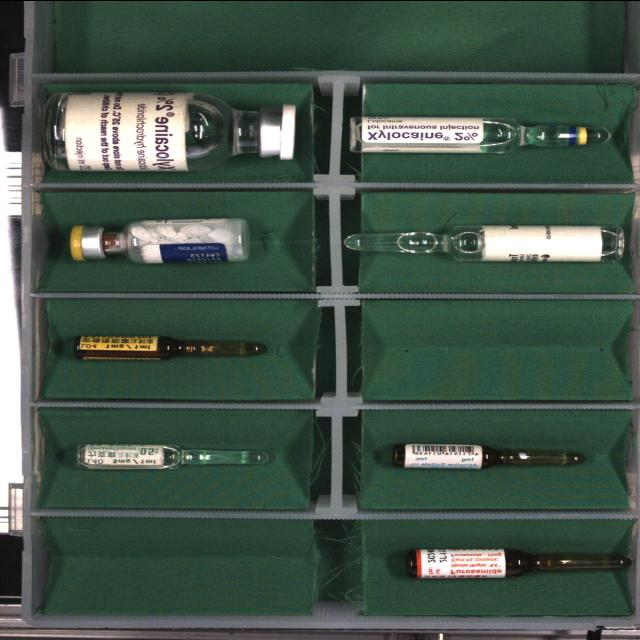Vials: (44, 91, 297, 170), (69, 218, 250, 263)
